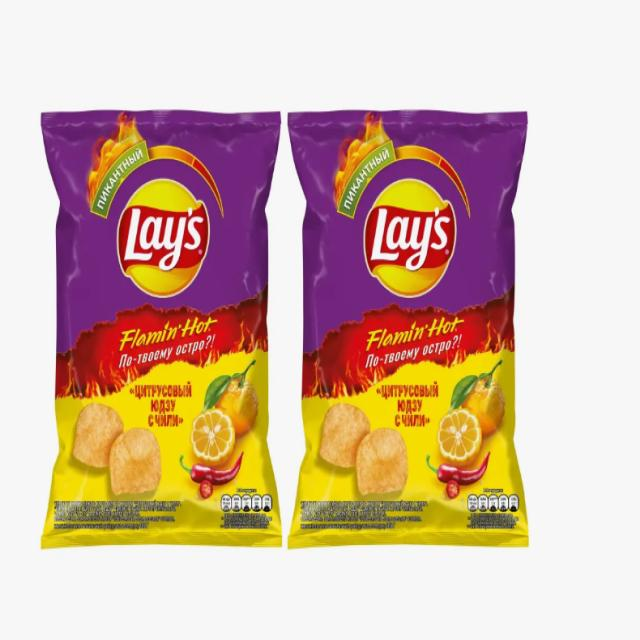supermarket-product: (88, 168, 242, 303)
